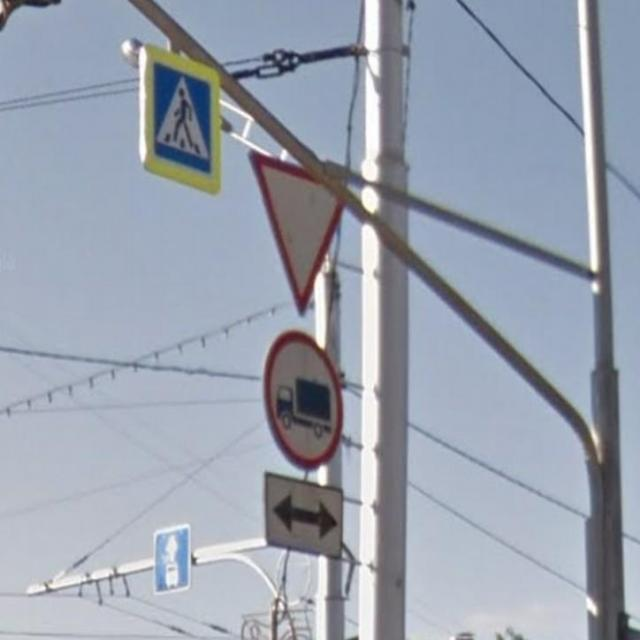traffic_sign: (248, 147, 348, 318), (138, 42, 223, 198), (262, 327, 344, 472)
